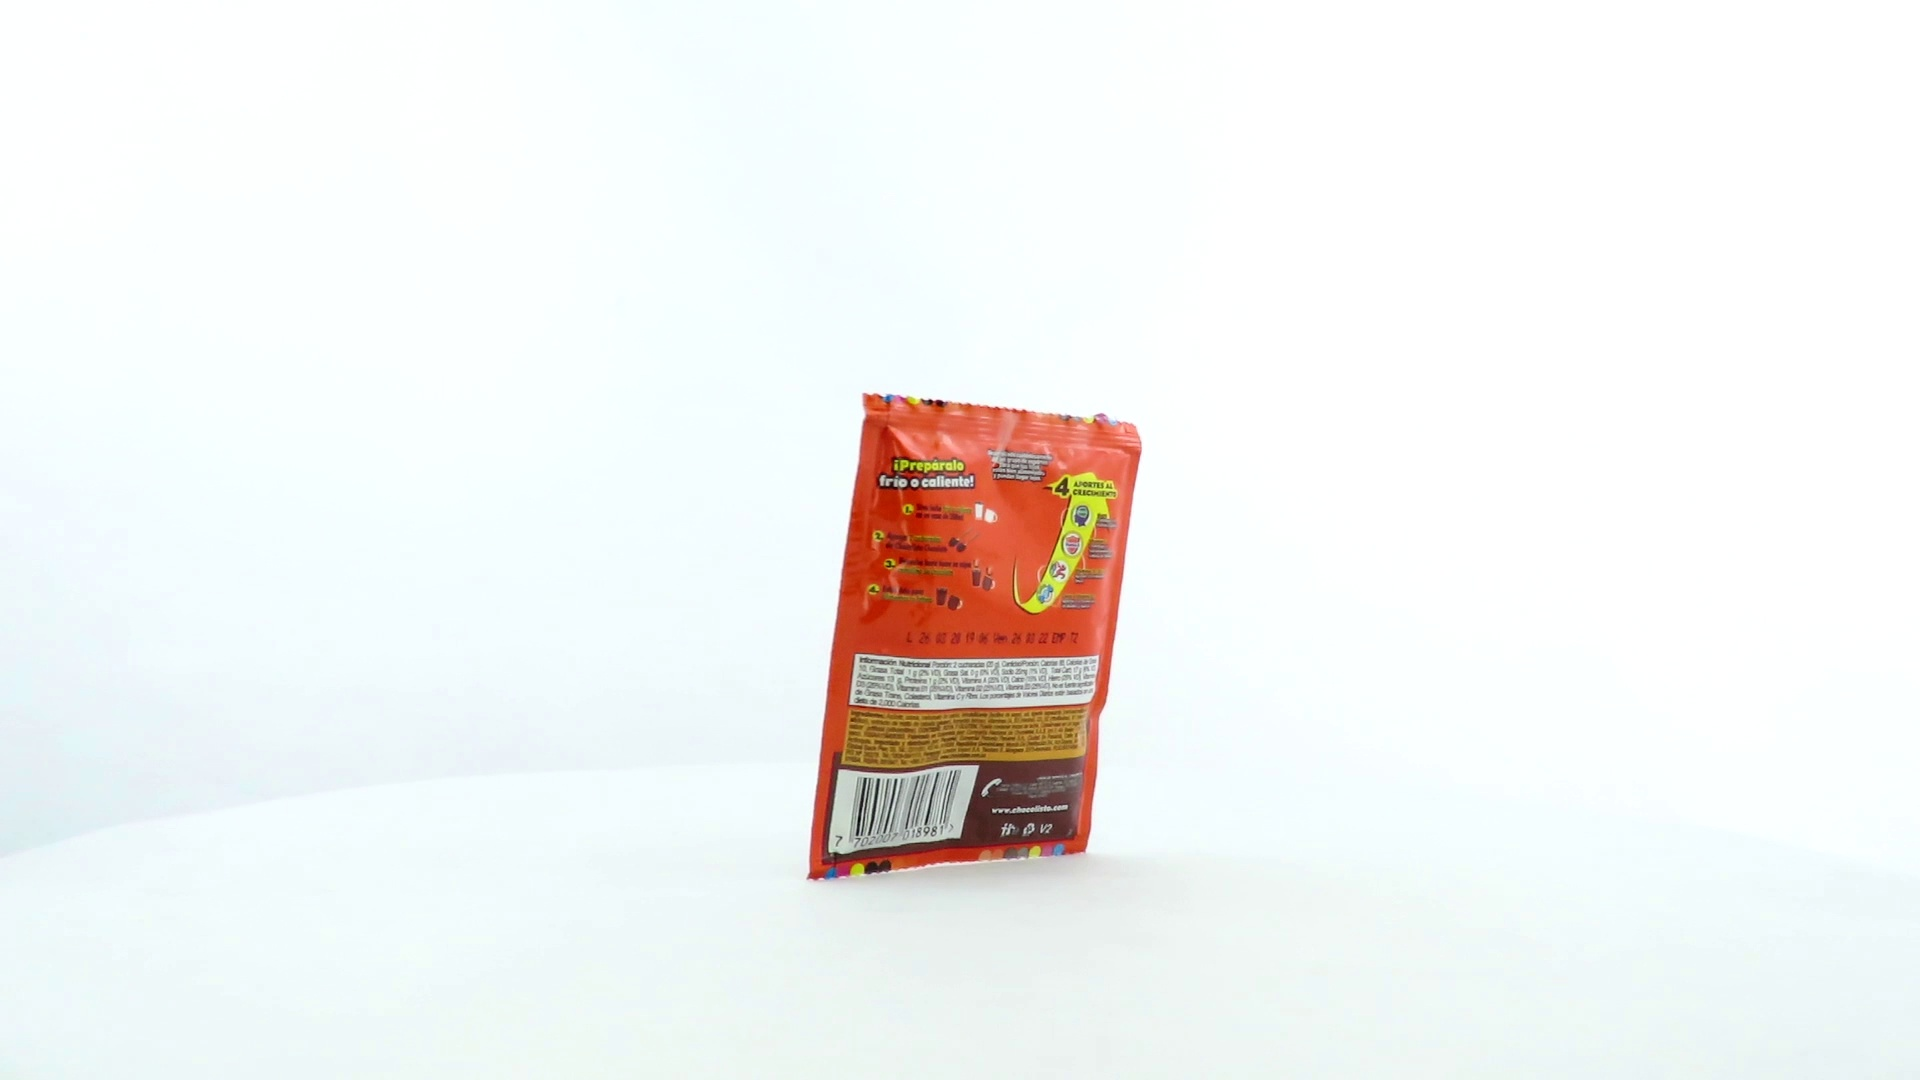COL0170103SOB02000: (800, 388, 1168, 887)
